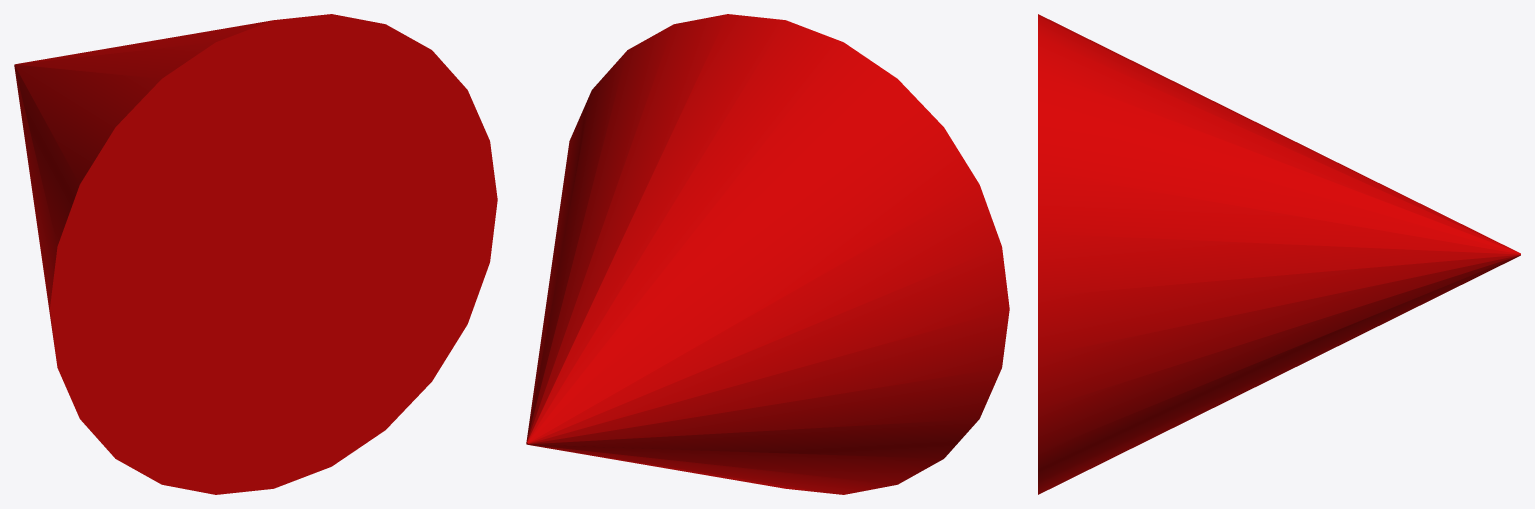
The model's file is vec_225.dae.
The picture shows the model from 3 angles, left to right: view 1: azimuth 30°, elevation 25°; view 2: azimuth 150°, elevation 25°; view 3: azimuth 270°, elevation 25°; orthographic projection. The views are drawn at different scales.
Parts seen in each view (by area): view 1: Model; view 2: Model; view 3: Model.
Part boxes in pixels (x1,y1,x2,y2): Model: (14,14,497,494); Model: (526,14,1009,494); Model: (1038,14,1520,494).
Size of the model in its own units: 1 by 1 by 1.
